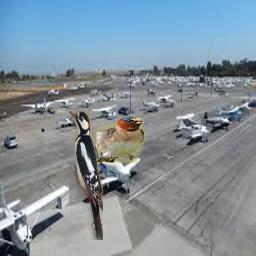Swallow: (94, 116, 146, 163)
Woodpecker: (69, 110, 103, 240)
